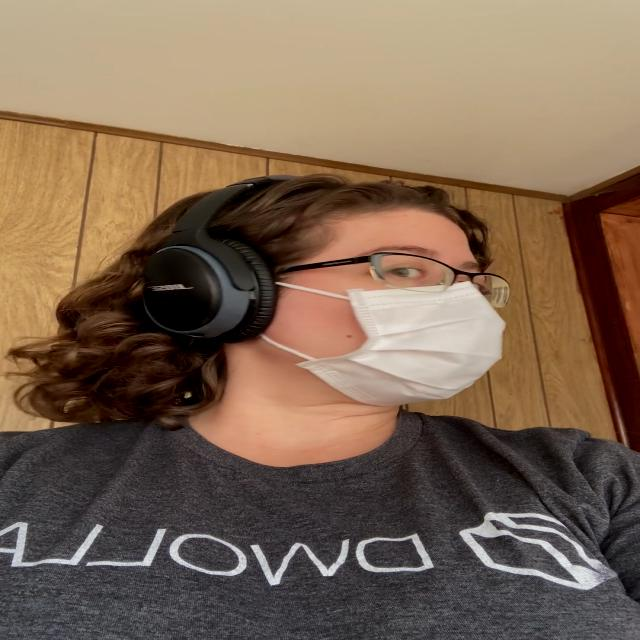mask: (258, 279, 507, 406)
no_helmet: (146, 172, 472, 242)
no_vest: (0, 411, 608, 640)
person: (0, 170, 640, 640)
